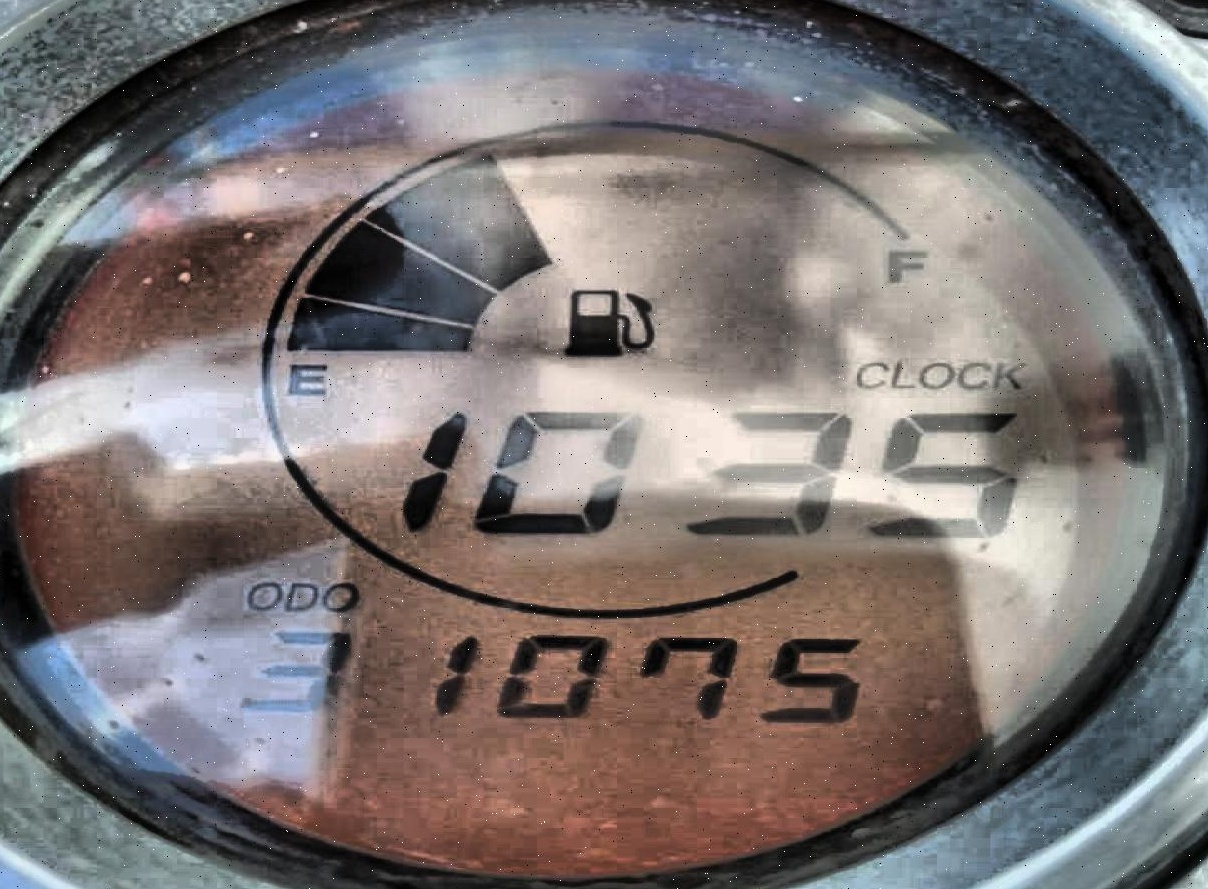0: (475, 405, 645, 534), (495, 634, 606, 718)
1: (398, 408, 468, 533), (433, 635, 475, 712)
3: (686, 407, 855, 540), (238, 629, 347, 713)
5: (865, 410, 1021, 540), (760, 638, 860, 722)
7: (636, 635, 735, 720)
X: (285, 360, 330, 396), (883, 247, 928, 283), (243, 580, 282, 611), (320, 583, 356, 612), (283, 582, 317, 612), (853, 360, 888, 389), (955, 360, 990, 387), (918, 363, 953, 389), (993, 361, 1025, 389), (890, 359, 915, 389)
